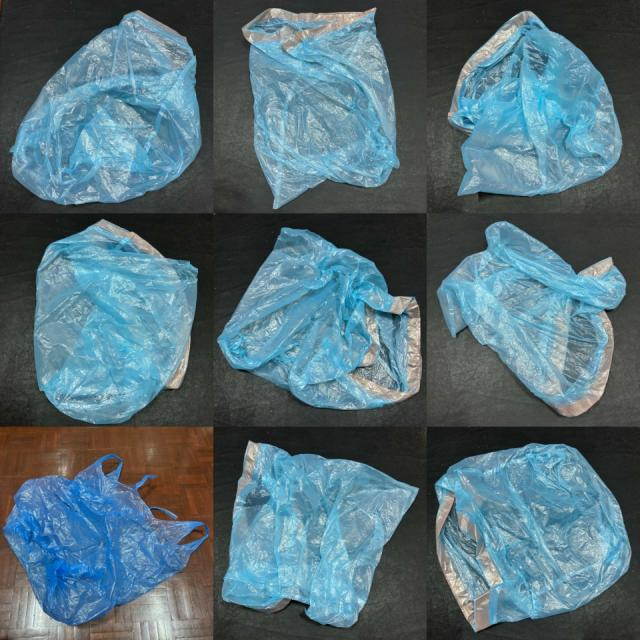Single-layer Plastic: (218, 228, 421, 410), (11, 11, 200, 205), (222, 441, 418, 628), (438, 222, 625, 416), (436, 444, 630, 631), (4, 454, 209, 625), (34, 220, 198, 424), (449, 11, 622, 196), (242, 9, 399, 208)
